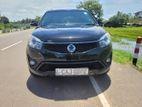car: (26, 7, 113, 77)
